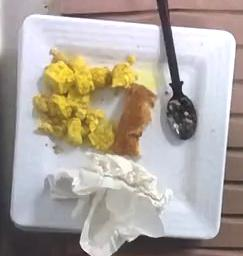pizza_crust: (112, 84, 156, 157)
tofu: (32, 47, 113, 149), (112, 64, 136, 88)
